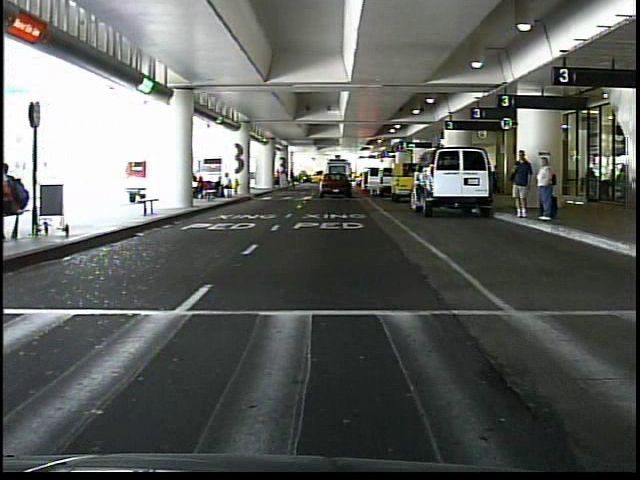person: (507, 147, 533, 221), (534, 151, 557, 224), (338, 171, 347, 193)
